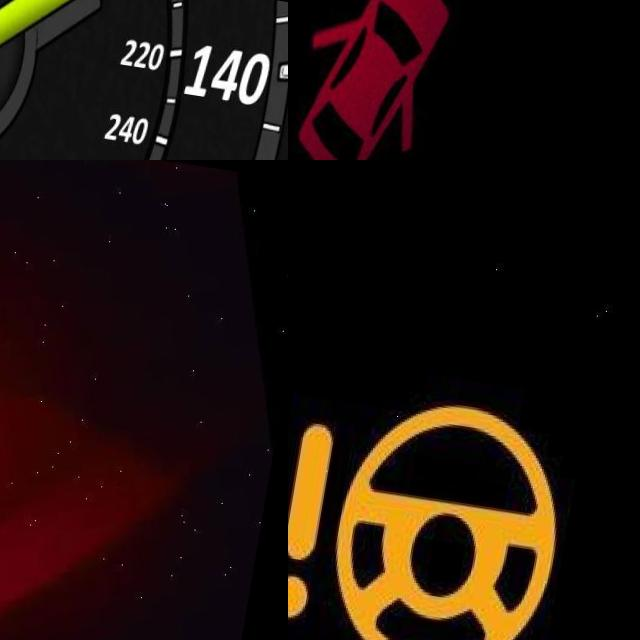Electronic Power Steering Warning: (288, 368, 585, 640)
